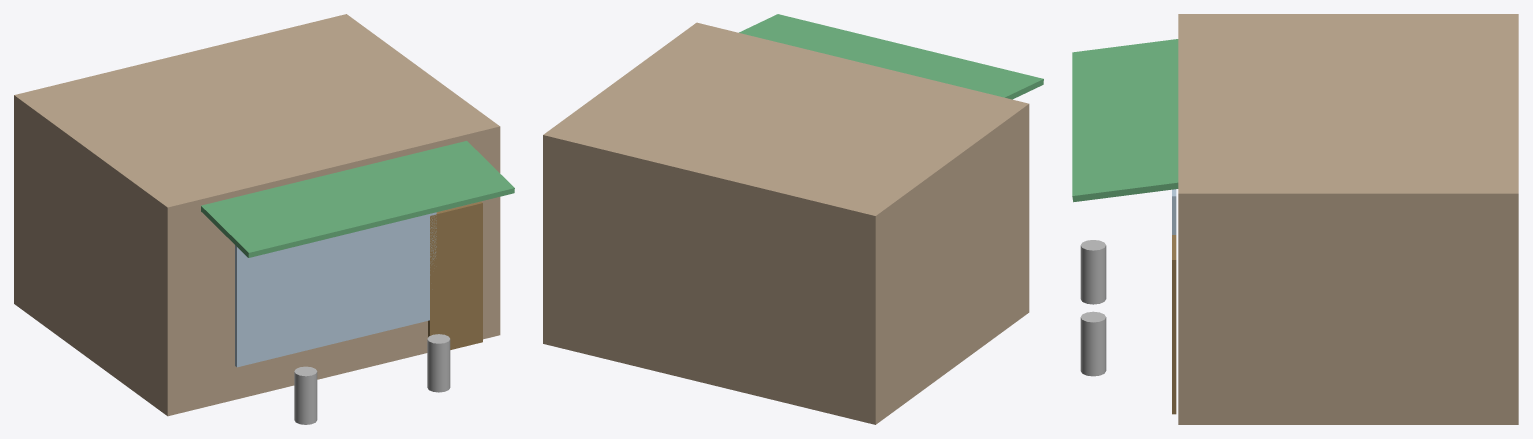
Rendered from env-mod-cafe.glb.
The picture shows the model from 3 angles, left to right: view 1: azimuth 30°, elevation 25°; view 2: azimuth 150°, elevation 25°; view 3: azimuth 270°, elevation 25°; orthographic projection. The views are drawn at different scales.
Size of the model in its own units: 5 by 3 by 5.25.
